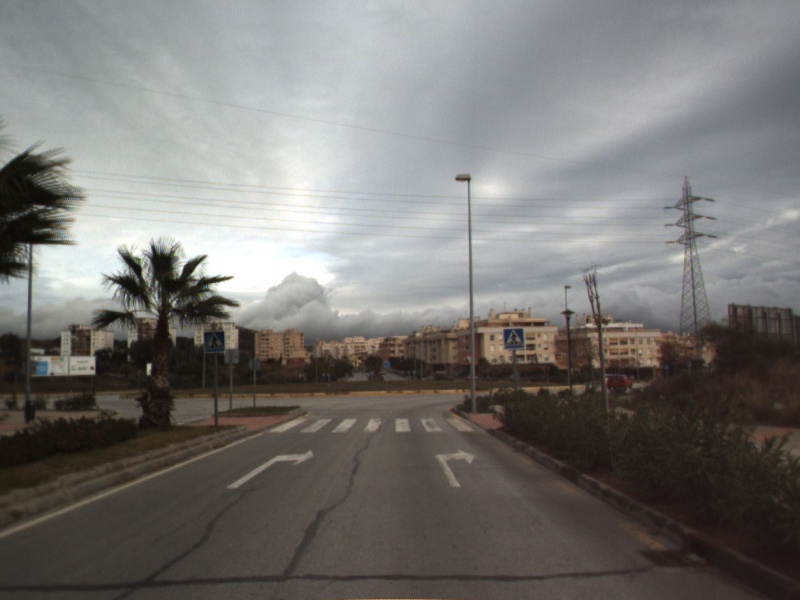RIGHT: (225, 448, 316, 490), (433, 447, 476, 489)
